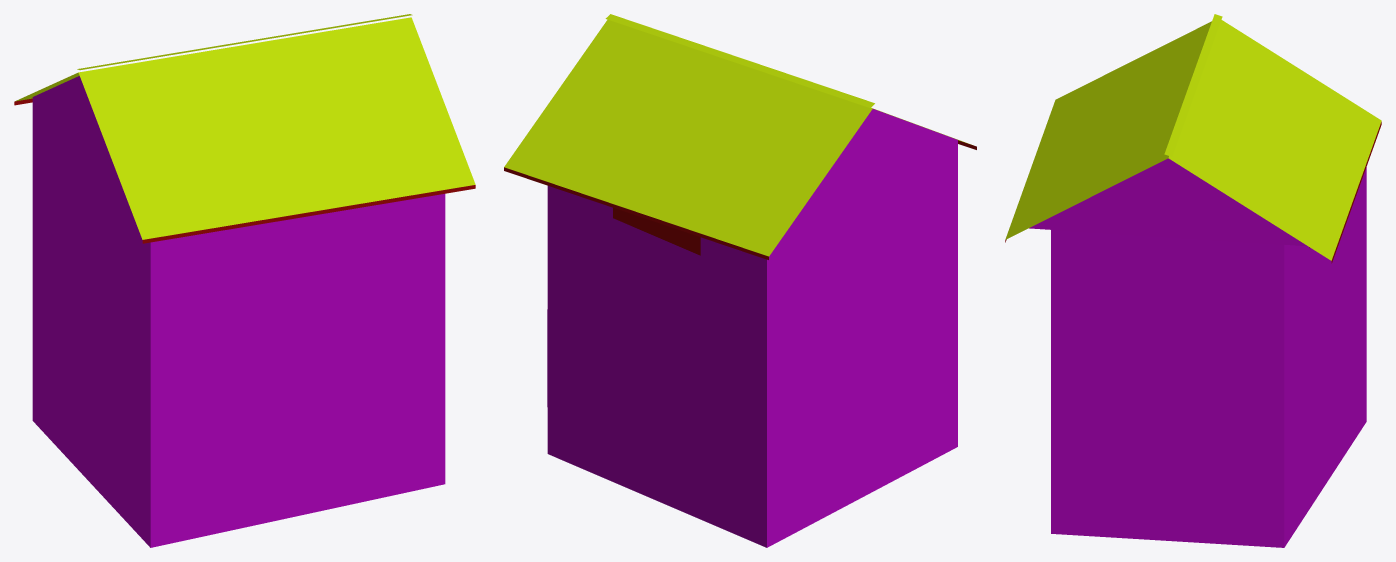
File: bgj_276.glb
The picture shows the model from 3 angles, left to right: view 1: azimuth 30°, elevation 25°; view 2: azimuth 150°, elevation 25°; view 3: azimuth 270°, elevation 25°; orthographic projection. The views are drawn at different scales.
Visible parts, largest first — view 1: bgj_276; view 2: bgj_276; view 3: bgj_276.
Part boxes in pixels (<box>): bgj_276: <box>14,14,475,547</box>; bgj_276: <box>504,14,976,547</box>; bgj_276: <box>1005,14,1381,547</box>.
Bounding box in the file's own units: 11.41 × 12.95 × 11.27.
